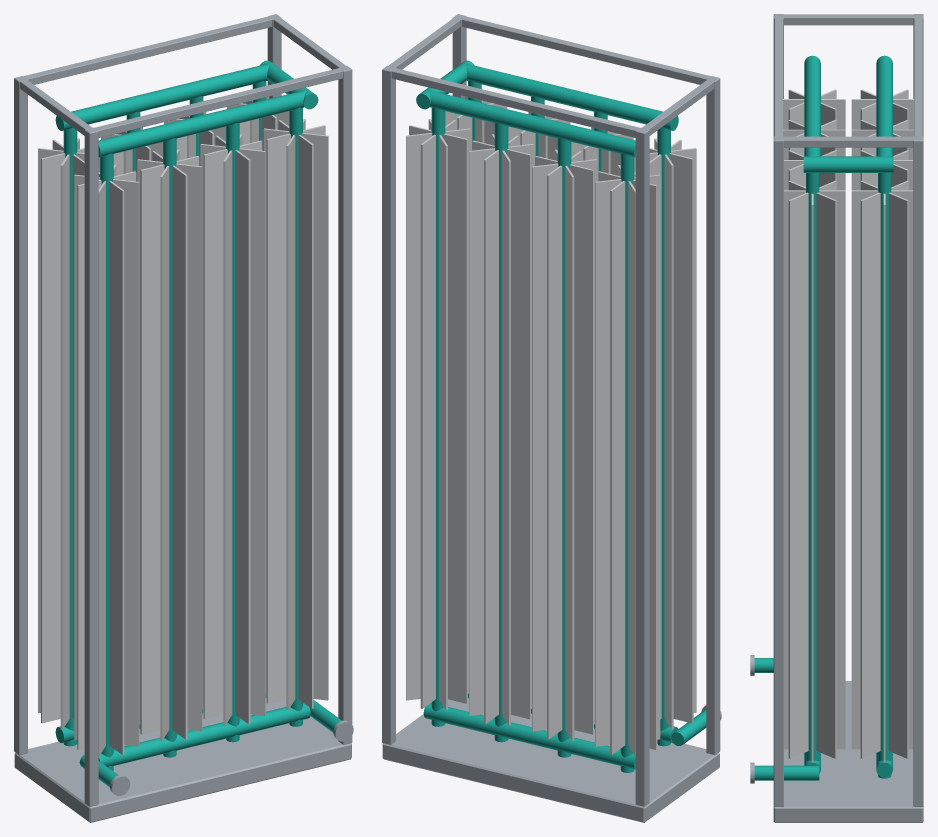
File: ambient-vaporizer.glb
3 views of the same model, side by side, from view 1: azimuth 30°, elevation 25°; view 2: azimuth 150°, elevation 25°; view 3: azimuth 270°, elevation 25° (orthographic).
Parts seen in each view (by area): view 1: ambient-vaporizer; view 2: ambient-vaporizer; view 3: ambient-vaporizer.
Boxes of the visible parts, box(x1,y1,x2,y2) form: ambient-vaporizer: box(14, 14, 353, 822); ambient-vaporizer: box(382, 14, 721, 822); ambient-vaporizer: box(750, 14, 923, 822).
Bounding box in the file's own units: 2 × 5.02 × 1.15.
